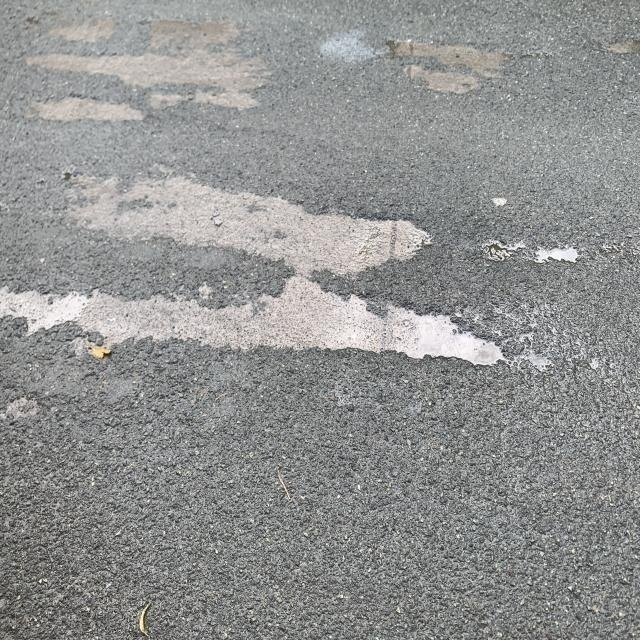pothole: (248, 260, 502, 384)
